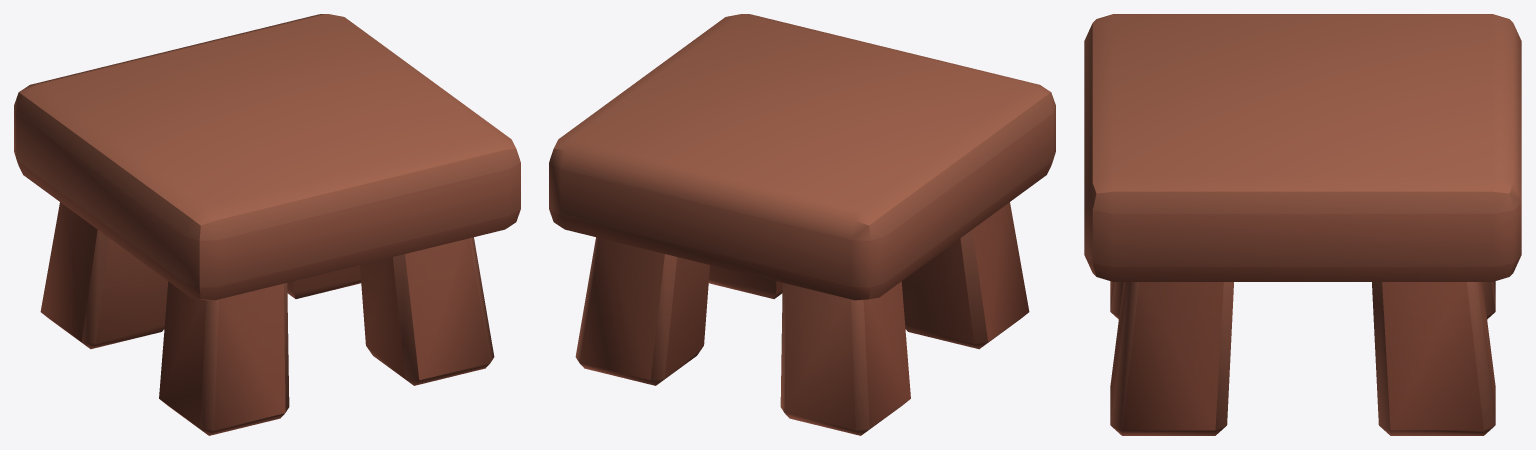
3 renders of one model, left to right at view 1: azimuth 30°, elevation 25°; view 2: azimuth 150°, elevation 25°; view 3: azimuth 270°, elevation 25°, orthographic. The views are drawn at different scales.
Visible parts, largest first — view 1: chair_stool_wood; view 2: chair_stool_wood; view 3: chair_stool_wood.
Part boxes in pixels (x1,y1,x2,y2): chair_stool_wood: (14, 14, 520, 435); chair_stool_wood: (549, 14, 1055, 435); chair_stool_wood: (1084, 14, 1521, 435).
Size of the model in its own units: 0.75 by 0.5 by 0.75.
Materials: 1 (1 with a texture image).
